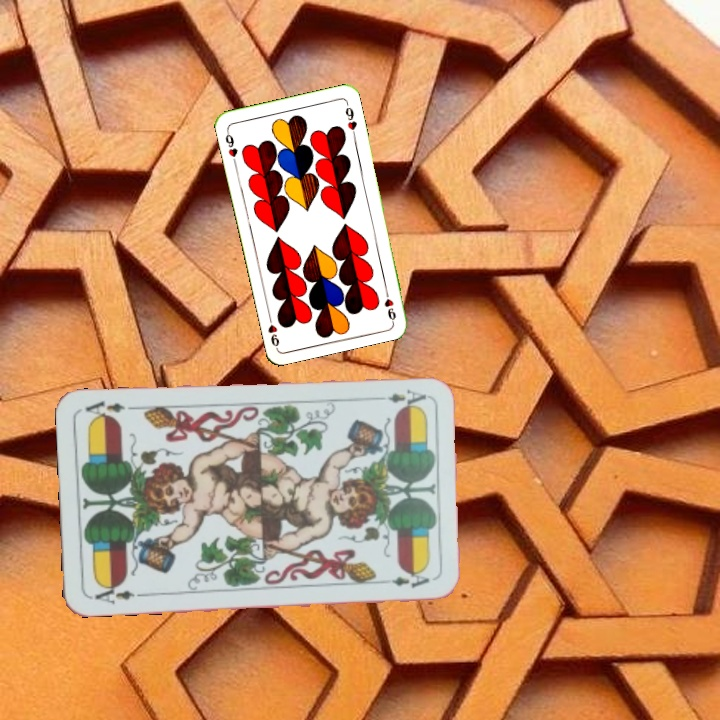EA: (90, 580, 146, 607), (370, 385, 429, 410)
H9: (221, 126, 240, 166), (381, 283, 398, 323)
